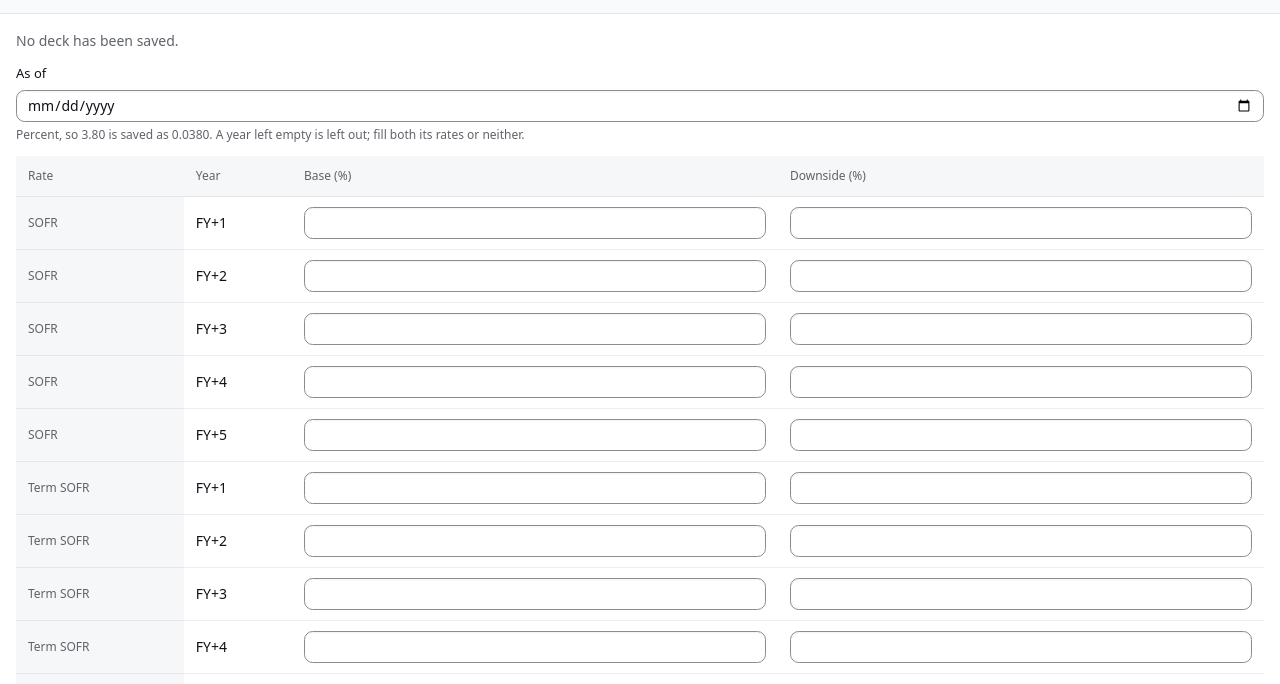
Test: the rate deck card › a row with only one of its two rates is refused inline
Expected: the text "No deck has been saved." is shown, [16,31,179,50]
Type "2026-10-05" into the date field labelled "As of" at (640,106), box [16,90,1264,122]
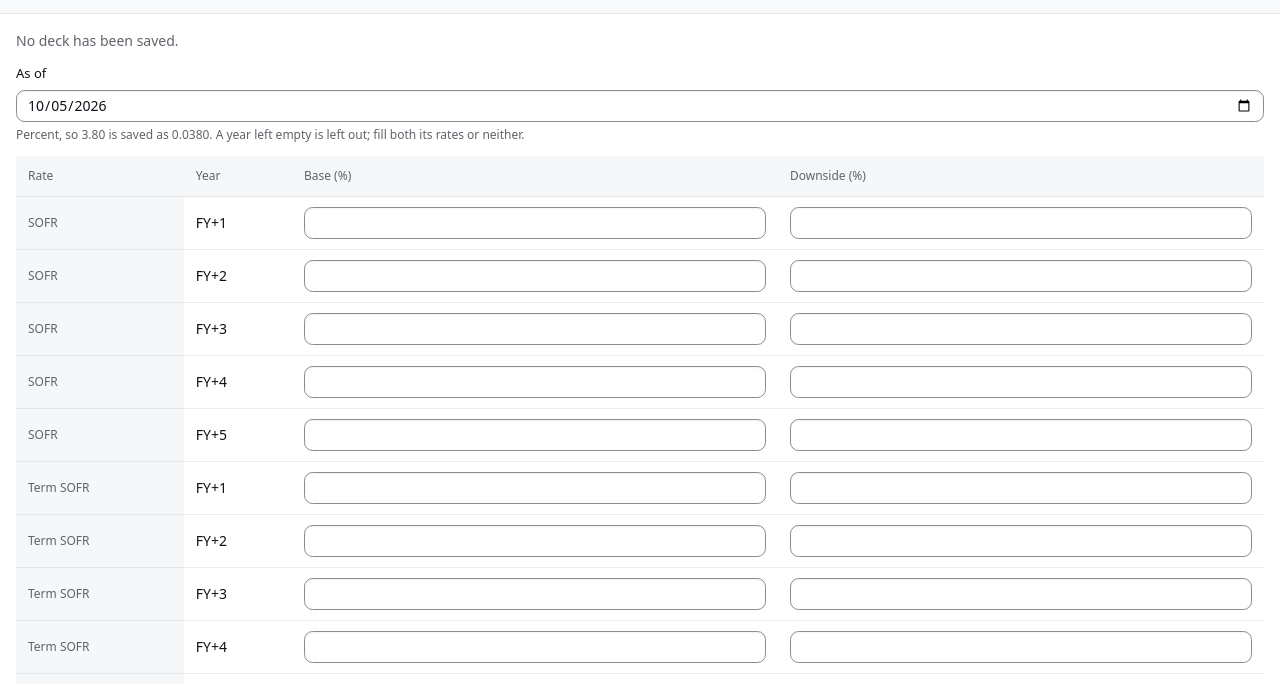
Type "3" into the field named "SOFR FY+1 base" at (535,223), box [304,207,766,239]
(page scrolled)
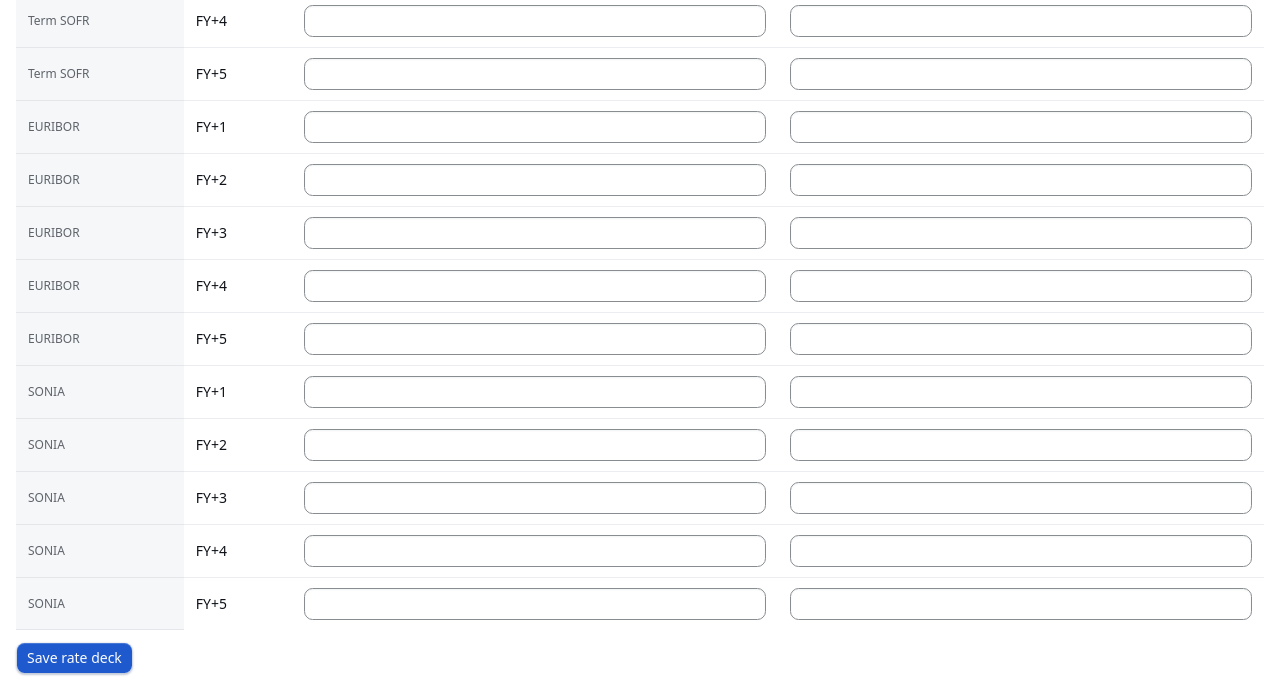
Click the button "Save rate deck" at (74,658), box [16,642,133,674]
(page scrolled)
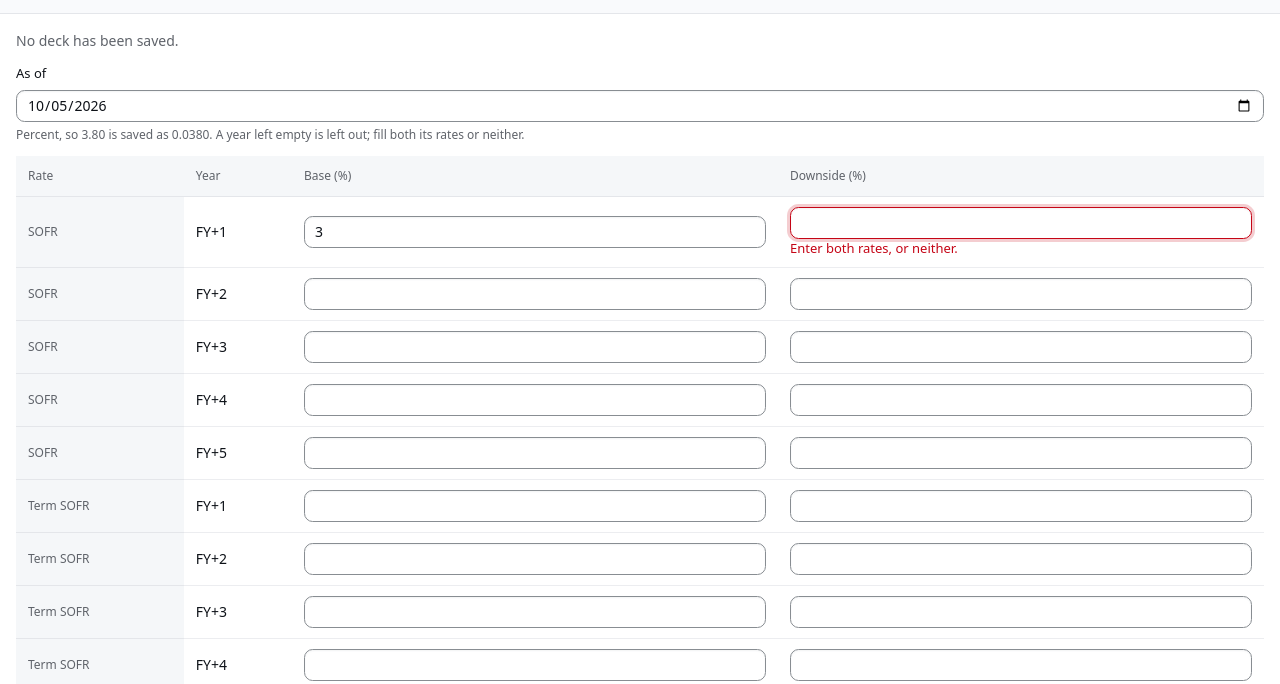
Expected: the text "Enter both rates, or neither." is shown, [790,239,958,257]
